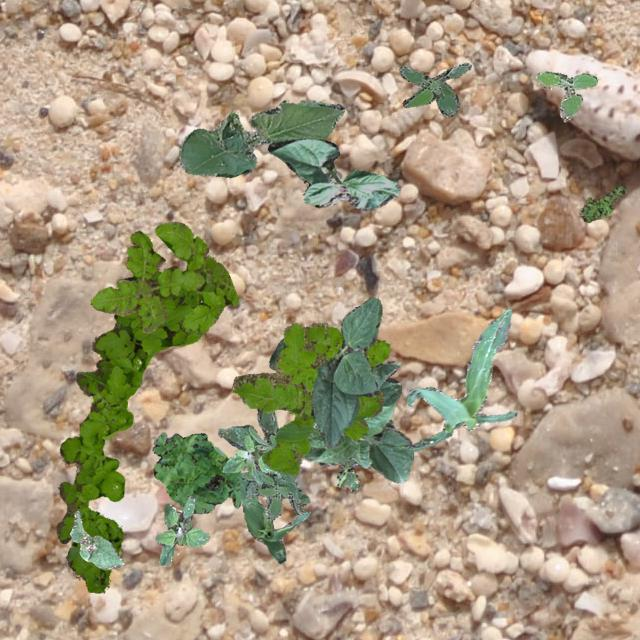crop: (392, 308, 516, 452), (302, 361, 412, 482), (178, 100, 344, 177), (212, 446, 310, 562), (310, 296, 380, 448), (266, 138, 398, 210), (68, 509, 124, 568), (336, 458, 358, 490), (268, 338, 282, 368)
weed: (56, 269, 202, 592), (232, 322, 390, 474), (90, 220, 238, 332), (216, 406, 308, 520), (152, 432, 240, 512), (398, 62, 469, 116), (154, 494, 208, 564), (534, 70, 596, 120), (222, 433, 278, 482), (578, 184, 626, 222)
